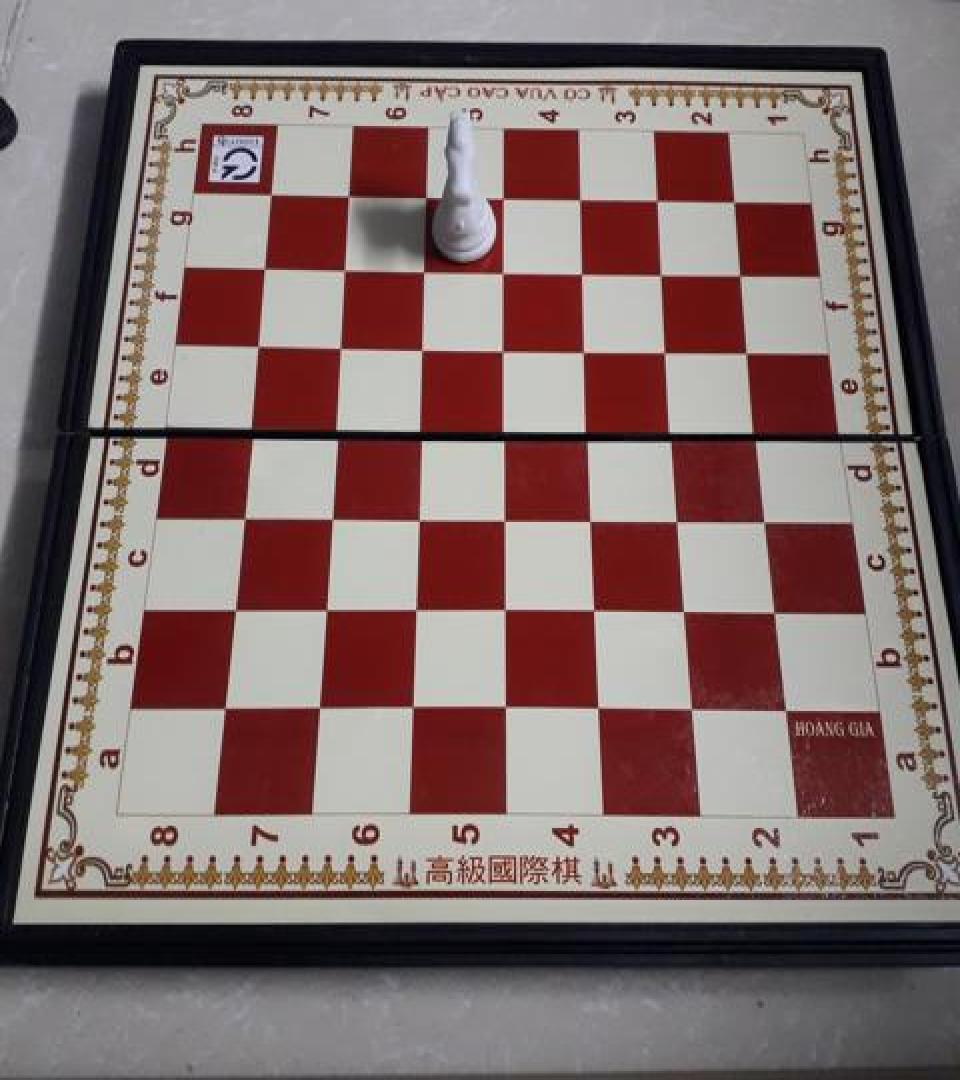xcorner: (584, 688, 616, 725), (677, 688, 709, 725), (769, 689, 801, 726), (490, 588, 522, 625), (210, 685, 242, 721), (304, 686, 336, 722), (398, 688, 430, 724), (491, 688, 523, 724), (219, 586, 251, 622), (310, 587, 342, 623), (400, 587, 432, 623), (580, 590, 612, 626), (670, 590, 702, 626), (759, 590, 791, 626), (227, 493, 259, 529), (315, 494, 347, 530), (403, 495, 435, 531), (490, 496, 522, 532), (577, 497, 609, 533), (664, 498, 696, 534), (750, 498, 782, 534), (235, 406, 267, 442), (320, 407, 352, 443), (405, 408, 437, 444), (489, 410, 521, 446), (574, 410, 606, 446), (658, 412, 690, 448), (741, 413, 773, 449), (243, 325, 275, 361), (325, 326, 357, 362), (407, 328, 439, 364), (571, 330, 603, 366), (652, 331, 684, 367), (733, 332, 765, 368), (250, 248, 282, 284), (330, 250, 362, 286), (409, 251, 441, 287), (489, 252, 521, 288), (568, 253, 600, 289), (647, 254, 679, 290), (725, 256, 757, 292), (256, 176, 288, 212), (334, 178, 366, 214), (411, 179, 443, 215), (488, 180, 520, 216), (565, 181, 597, 217), (642, 182, 674, 218), (718, 184, 750, 220), (489, 329, 521, 364)
